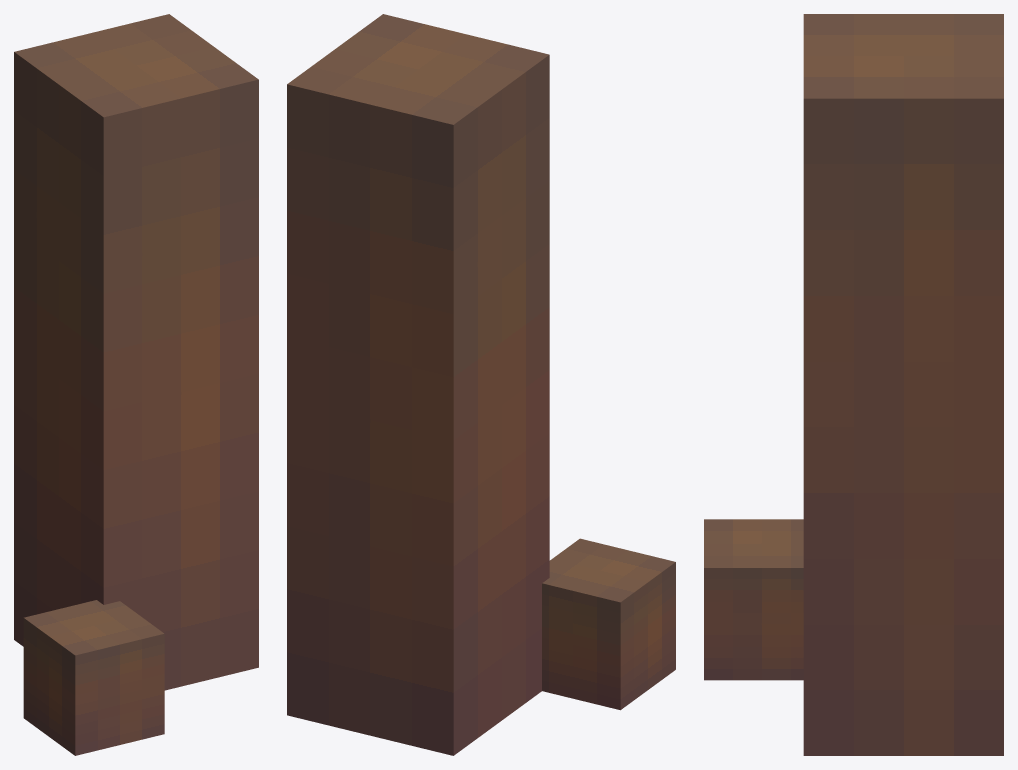
Rendered from pentlandite_crystal_two.obj.
3 renders of one model, left to right at view 1: azimuth 30°, elevation 25°; view 2: azimuth 150°, elevation 25°; view 3: azimuth 270°, elevation 25°, orthographic. The views are drawn at different scales.
Visible parts, largest first — view 1: Crystal5_Cube.008; view 2: Crystal5_Cube.008; view 3: Crystal5_Cube.008.
Boxes of the visible parts, left/top/right/bottom form: Crystal5_Cube.008: left=14, top=14, right=258, bottom=755; Crystal5_Cube.008: left=287, top=14, right=675, bottom=755; Crystal5_Cube.008: left=704, top=14, right=1003, bottom=755.
Bounding box in the file's own units: 0.1355 × 0.3335 × 0.1379.
